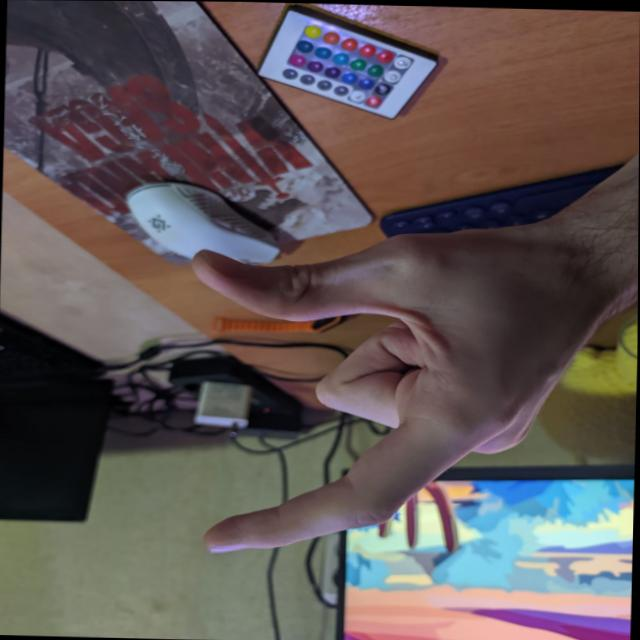uh: (169, 208, 576, 563)
